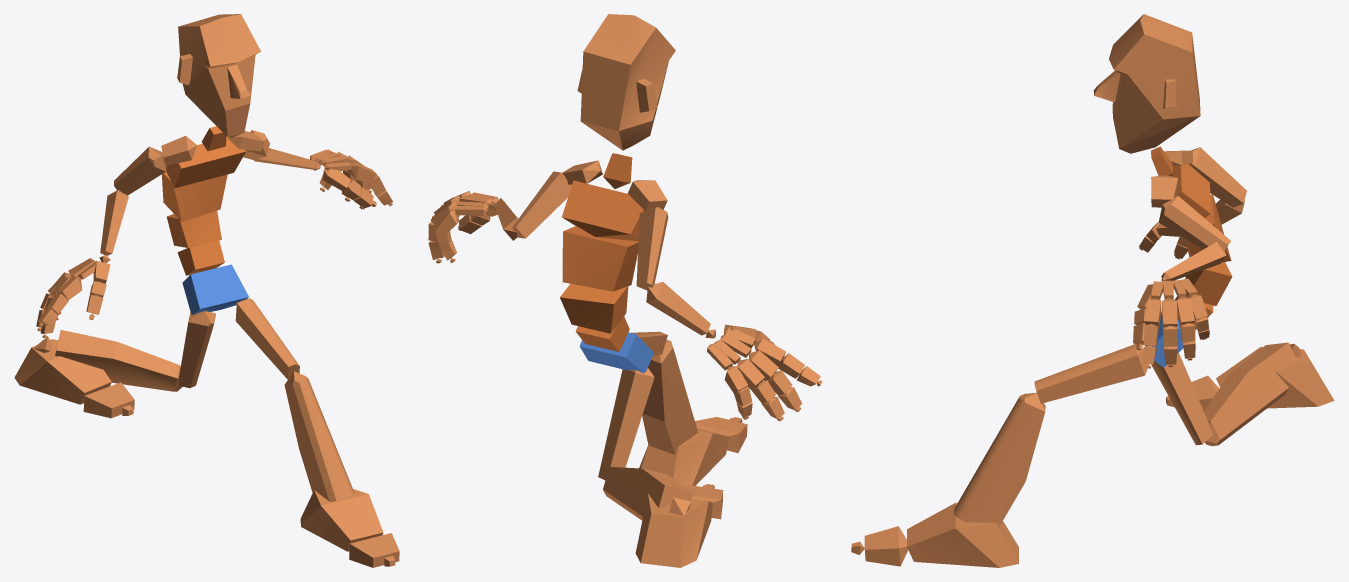
The picture shows the model from 3 angles, left to right: view 1: azimuth 30°, elevation 25°; view 2: azimuth 150°, elevation 25°; view 3: azimuth 270°, elevation 25°; orthographic projection. The views are drawn at different scales.
Visible parts, largest first — view 1: BOPED_Head, BOPED_L_leg, BOPED_R_leg, BOPED_R_foot, BOPED_R_foot01, Bone01, Bone04, Bone05, BOPED_L_legup, BOPED_R_legup, Bone03, BOPED_R_arm_upper (+7 smaller); view 2: BOPED_Head, BOPED_R_foot, BOPED_L_leg, Bone04, Bone05, BOPED_R_legup, BOPED_R_foot01, BOPED_R_leg, Bone03, BOPED_R_arm_upper, BOPED_L_arm_upper, Bone01 (+9 smaller); view 3: BOPED_Head, BOPED_L_leg, BOPED_R_foot01, BOPED_R_leg, BOPED_L_legup, BOPED_R_foot, BOPED_R_legup, BOPED_L_arm_upper, BOPED_R_arm_upper, BOPED_R_foot_toe04, Bone05, Bone03 (+2 smaller).
Part boxes in pixels (x1,y1,x2,y2): BOPED_Head: [177, 14, 260, 137]; BOPED_L_leg: [284, 371, 354, 501]; BOPED_R_leg: [55, 330, 182, 391]; BOPED_R_foot: [14, 339, 111, 404]; BOPED_R_foot01: [300, 489, 383, 551]; Bone01: [182, 264, 248, 314]; Bone04: [162, 171, 227, 221]; Bone05: [166, 137, 245, 188]; BOPED_L_legup: [235, 298, 299, 379]; BOPED_R_legup: [178, 311, 216, 388]; Bone03: [166, 210, 221, 247]; BOPED_R_arm_upper: [114, 146, 166, 195]; BOPED_Head: [577, 14, 675, 150]; BOPED_R_foot: [635, 494, 712, 567]; BOPED_L_leg: [642, 339, 698, 454]; Bone04: [562, 226, 638, 291]; Bone05: [562, 180, 644, 241]; BOPED_R_legup: [598, 368, 654, 480]; BOPED_R_foot01: [639, 429, 729, 486]; BOPED_R_leg: [603, 467, 693, 520]; Bone03: [560, 283, 628, 333]; BOPED_R_arm_upper: [636, 207, 668, 290]; BOPED_L_arm_upper: [512, 171, 571, 238]; Bone01: [579, 332, 653, 373]; BOPED_Head: [1093, 14, 1200, 153]; BOPED_L_leg: [954, 392, 1045, 526]; BOPED_R_foot01: [907, 502, 1018, 567]; BOPED_R_leg: [1204, 342, 1297, 446]; BOPED_L_legup: [1034, 344, 1149, 403]; BOPED_R_foot: [1216, 347, 1334, 408]; BOPED_R_legup: [1151, 353, 1212, 445]; BOPED_L_arm_upper: [1158, 196, 1230, 250]; BOPED_R_arm_upper: [1188, 147, 1246, 207]; BOPED_R_foot_toe04: [864, 526, 907, 566]; Bone05: [1172, 164, 1210, 217]; Bone03: [1185, 262, 1232, 305].
Size of the model in its own units: 130 by 167 by 142.
